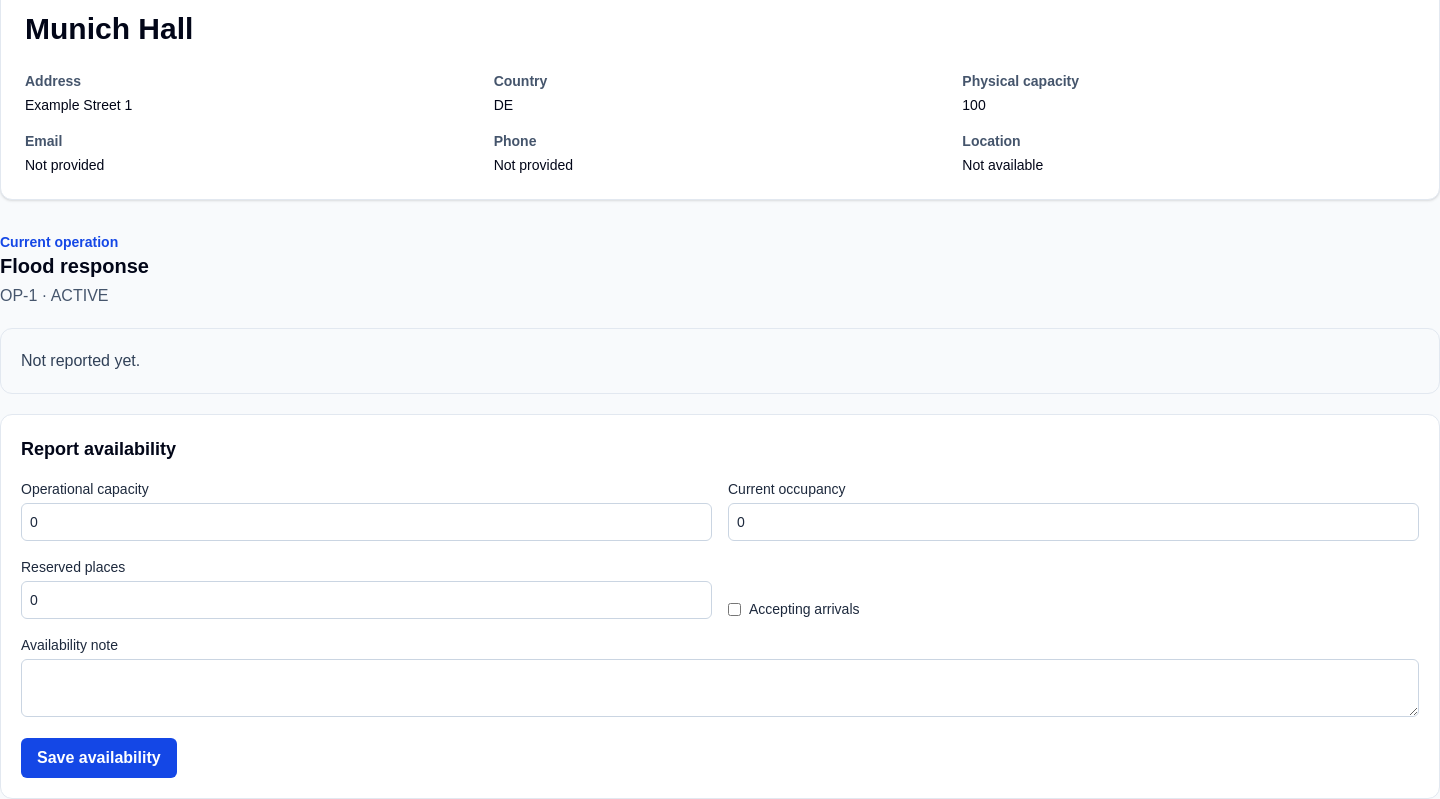
ShelterDetail › shows a clear conflict message when the server rejects an update
(page scrolled)
Expected: the text "Not reported yet." is shown, [0, 328, 1439, 394]
Click the button "Save availability": (99, 758) [21, 738, 177, 778]
(page scrolled)
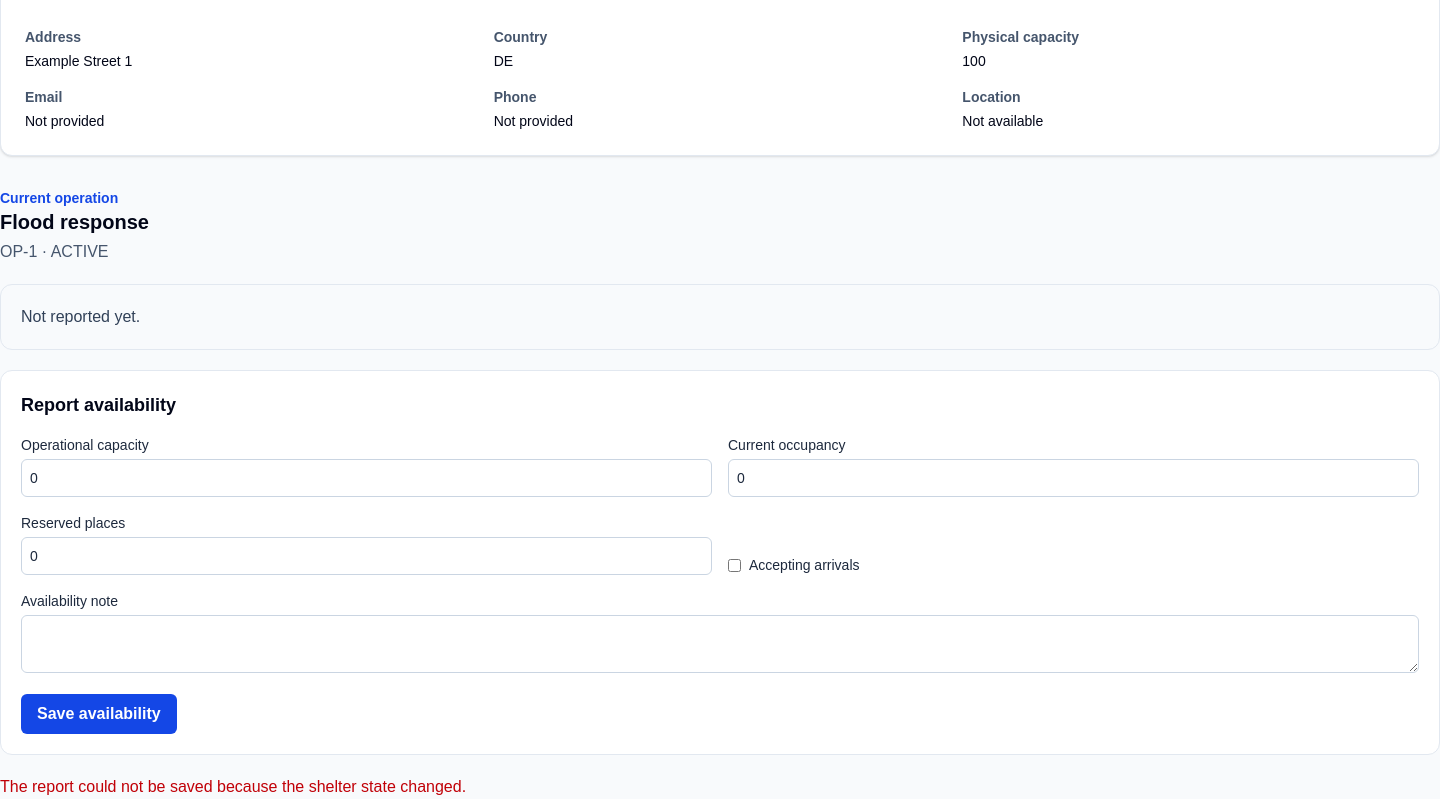
Expected: the text "The report could not be saved because the shelter state changed." is shown, [0, 778, 466, 795]
